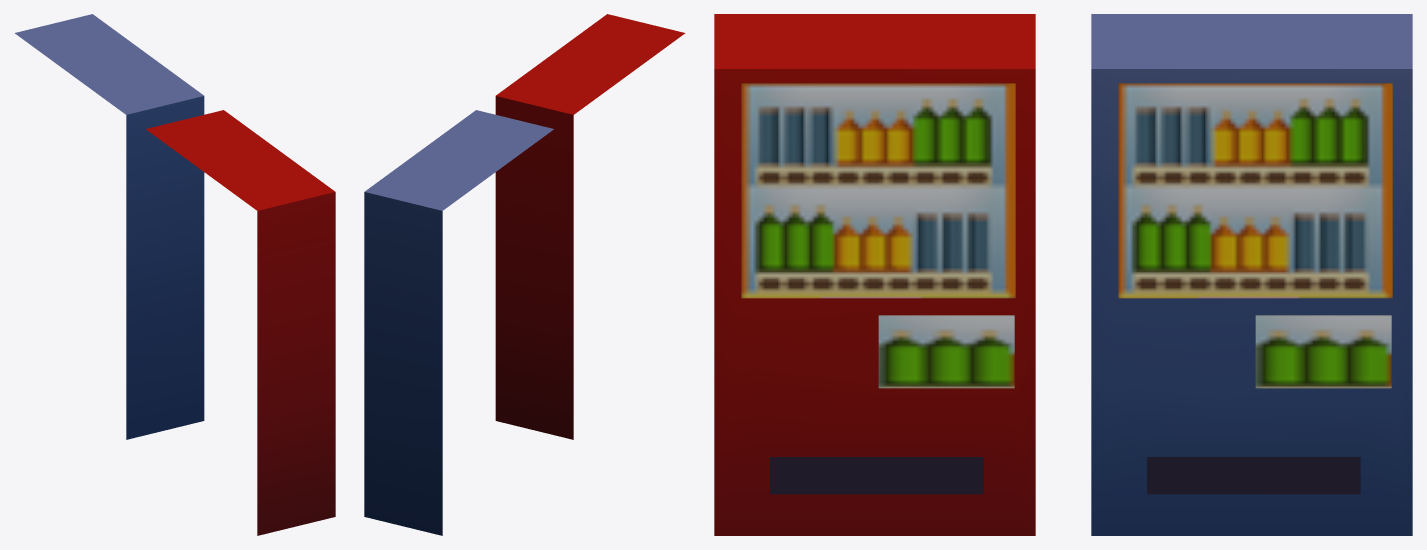
Rendered from 1.100_SanFrancisco_extra_18.glb.
The picture shows the model from 3 angles, left to right: view 1: azimuth 30°, elevation 25°; view 2: azimuth 150°, elevation 25°; view 3: azimuth 270°, elevation 25°; orthographic projection. The views are drawn at different scales.
Visible parts, largest first — view 1: 1.100_SanFrancisco_extra_18; view 2: 1.100_SanFrancisco_extra_18; view 3: 1.100_SanFrancisco_extra_18.
Boxes of the visible parts, box(x1,y1,x2,y2) form: 1.100_SanFrancisco_extra_18: box(14, 14, 335, 535); 1.100_SanFrancisco_extra_18: box(364, 14, 685, 535); 1.100_SanFrancisco_extra_18: box(714, 14, 1412, 535).
Bounding box in the file's own units: 7.99 × 31.53 × 42.73.
Materials: 1 (1 with a texture image).
